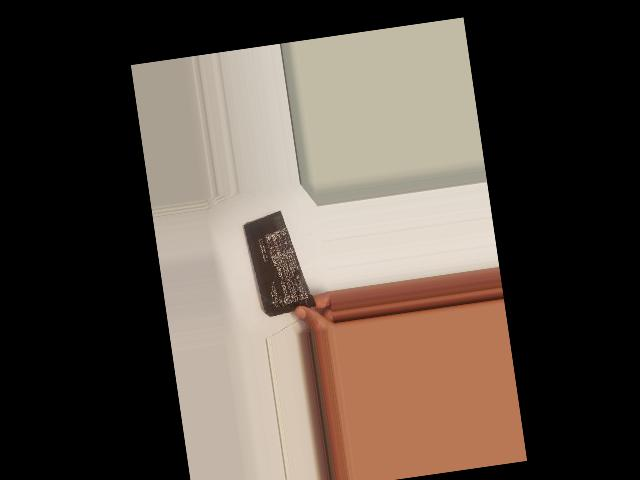chocolate: (240, 204, 320, 319)
